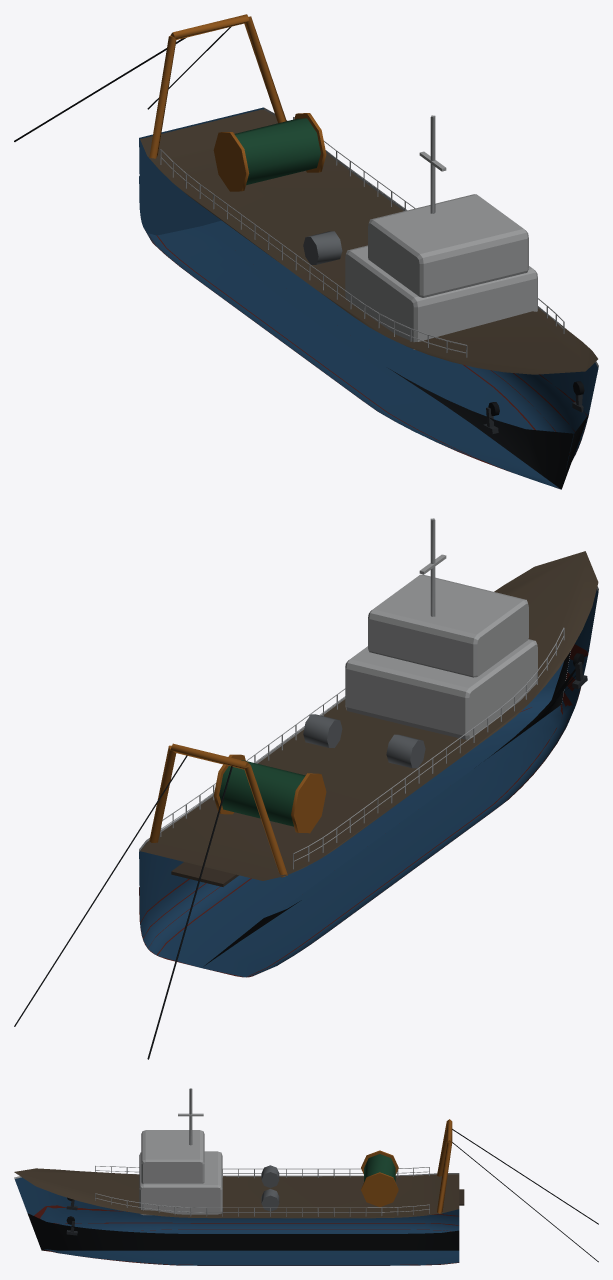
File: fishing.glb
The picture shows the model from 3 angles, top to bottom: view 1: azimuth 30°, elevation 25°; view 2: azimuth 150°, elevation 25°; view 3: azimuth 270°, elevation 25°; orthographic projection. The views are drawn at different scales.
Size of the model in its own units: 10 by 17.97 by 58.81.
